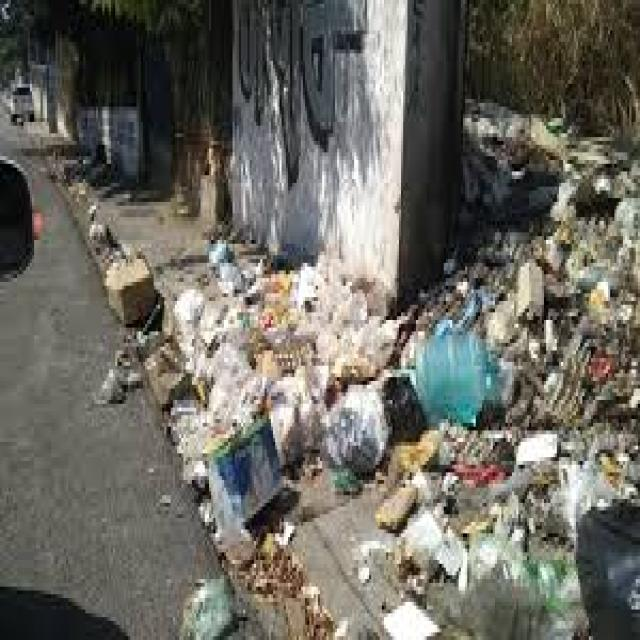garbage: (106, 180, 640, 640)
